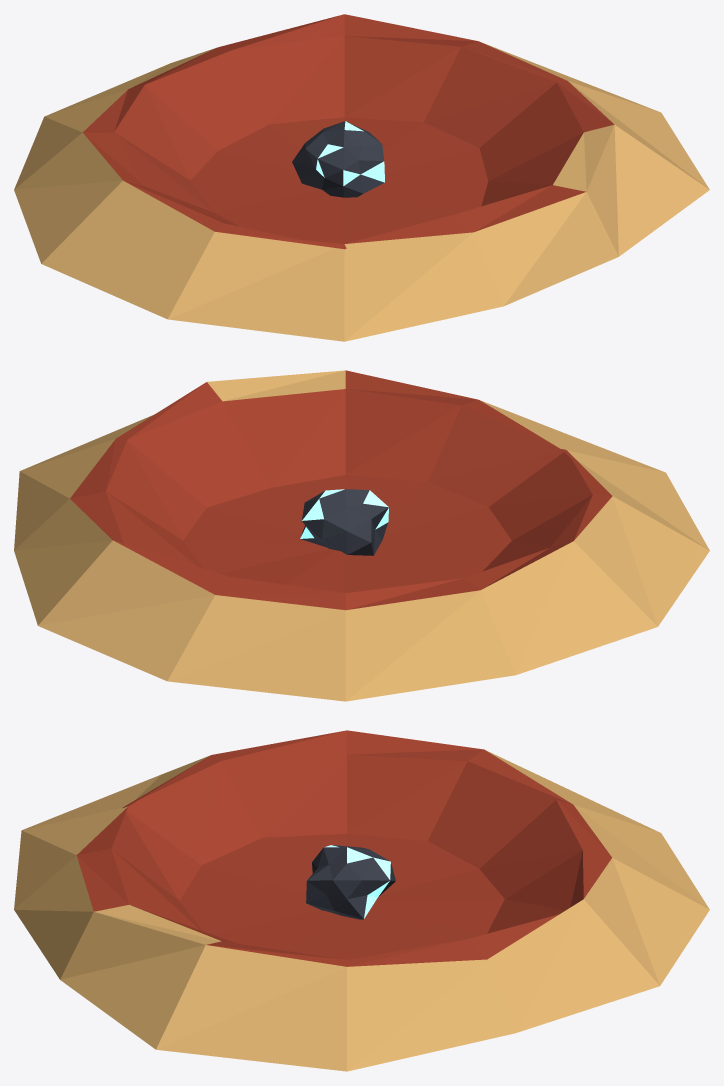
Rendered from Nat_Crater_B.fbx.
The picture shows the model from 3 angles, top to bottom: view 1: azimuth 30°, elevation 25°; view 2: azimuth 150°, elevation 25°; view 3: azimuth 270°, elevation 25°; orthographic projection. The views are drawn at different scales.
Visible parts, largest first — view 1: Nat_Crater_B_Body, Nat_Crater_B_Meteorite; view 2: Nat_Crater_B_Body, Nat_Crater_B_Meteorite; view 3: Nat_Crater_B_Body, Nat_Crater_B_Meteorite.
Part boxes in pixels (x1=…): Nat_Crater_B_Body: x1=14, y1=14, x2=709, y2=341; Nat_Crater_B_Meteorite: x1=292, y1=121, x2=384, y2=197; Nat_Crater_B_Body: x1=14, y1=370, x2=709, y2=701; Nat_Crater_B_Meteorite: x1=300, y1=489, x2=388, y2=555; Nat_Crater_B_Body: x1=14, y1=730, x2=709, y2=1071; Nat_Crater_B_Meteorite: x1=306, y1=845, x2=395, y2=919.
Bounding box in the file's own units: 7.14 × 0.8186 × 6.63.
